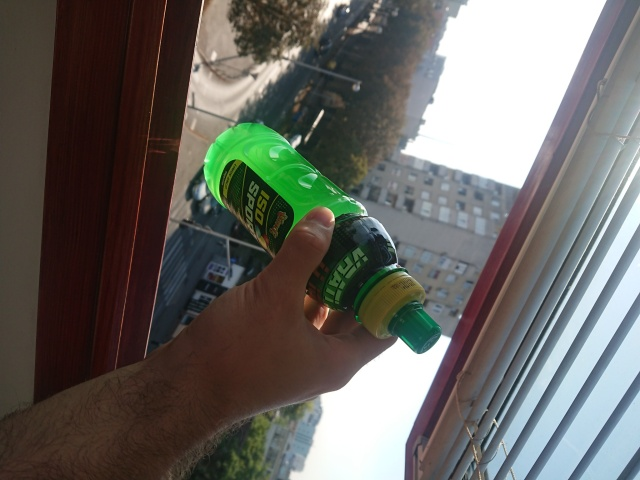Vindi Iso Sport Lemon-Grapefruit 500mL: (200, 119, 444, 357)
